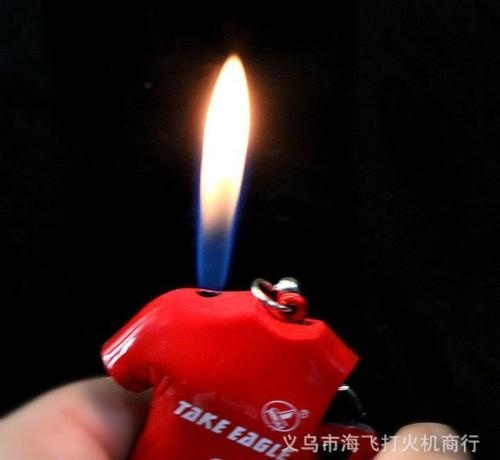fire: (198, 44, 253, 279)
